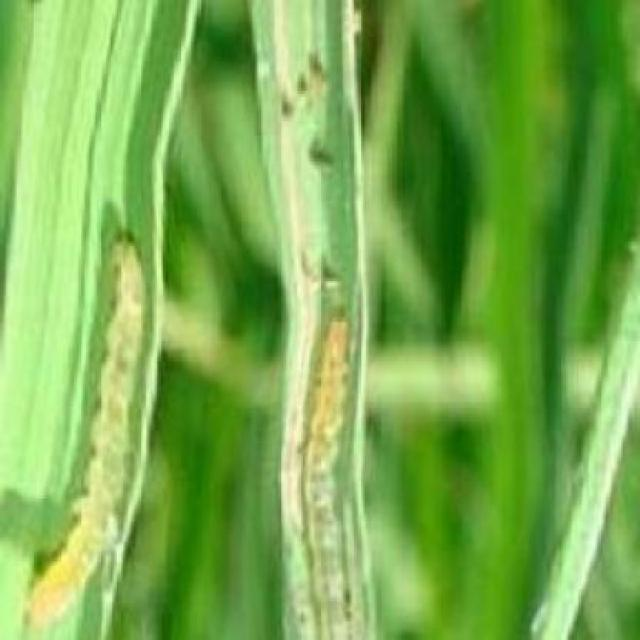leaf-folder: (20, 218, 162, 640), (268, 278, 397, 640)
